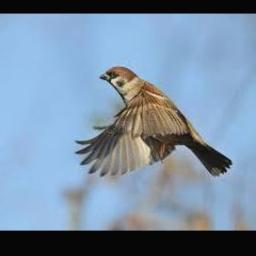Sparrow: (75, 66, 231, 178)
